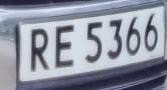3: (106, 15, 126, 64)
5: (83, 17, 106, 70)
6: (141, 10, 161, 55), (125, 12, 144, 59)
E: (53, 21, 78, 73)
R: (27, 23, 53, 78)
